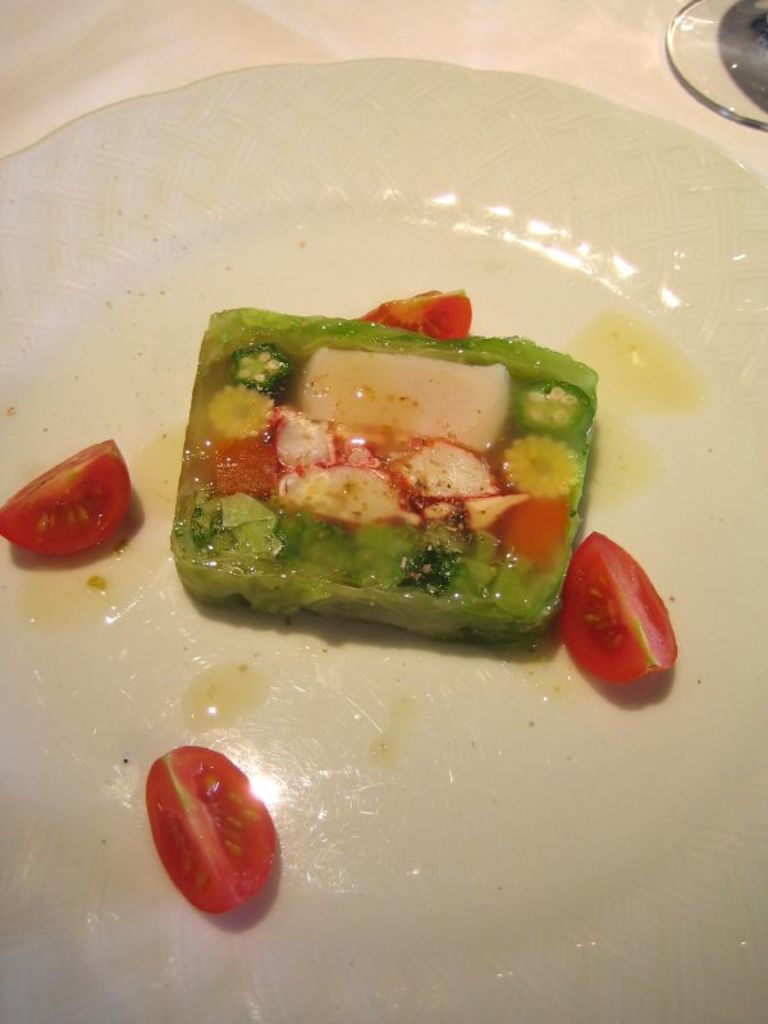Tomato: (140, 742, 288, 911), (556, 524, 691, 709), (0, 437, 129, 559), (353, 289, 474, 337)
